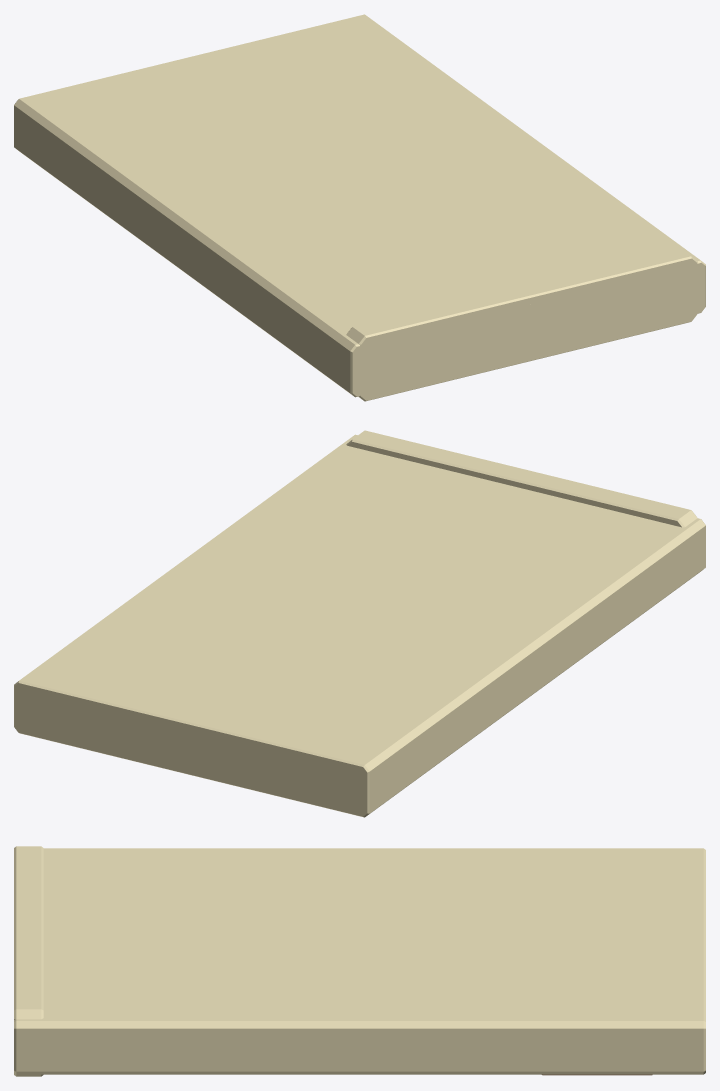
The model's file is seeds.glb.
3 views of the same model, one above another, from view 1: azimuth 30°, elevation 25°; view 2: azimuth 150°, elevation 25°; view 3: azimuth 270°, elevation 25° (orthographic). The views are drawn at different scales.
Visible parts, largest first — view 1: seeds; view 2: seeds; view 3: seeds.
Part boxes in pixels (x1,y1,x2,y2): seeds: (14, 14, 705, 401); seeds: (14, 430, 705, 817); seeds: (14, 846, 705, 1076).
Size of the model in its own units: 0.085 by 0.0161 by 0.14.
